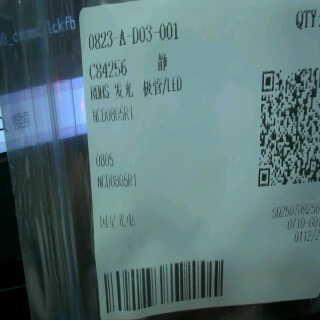LED: (112, 72, 186, 101)
